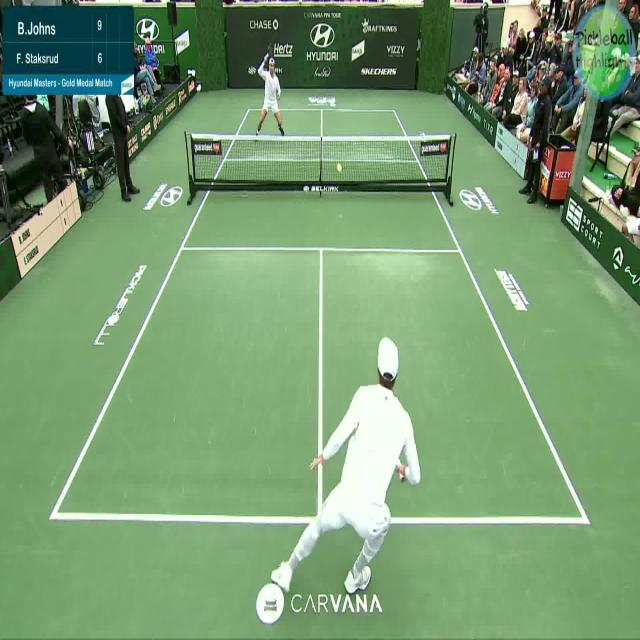ball: (335, 160, 344, 172)
